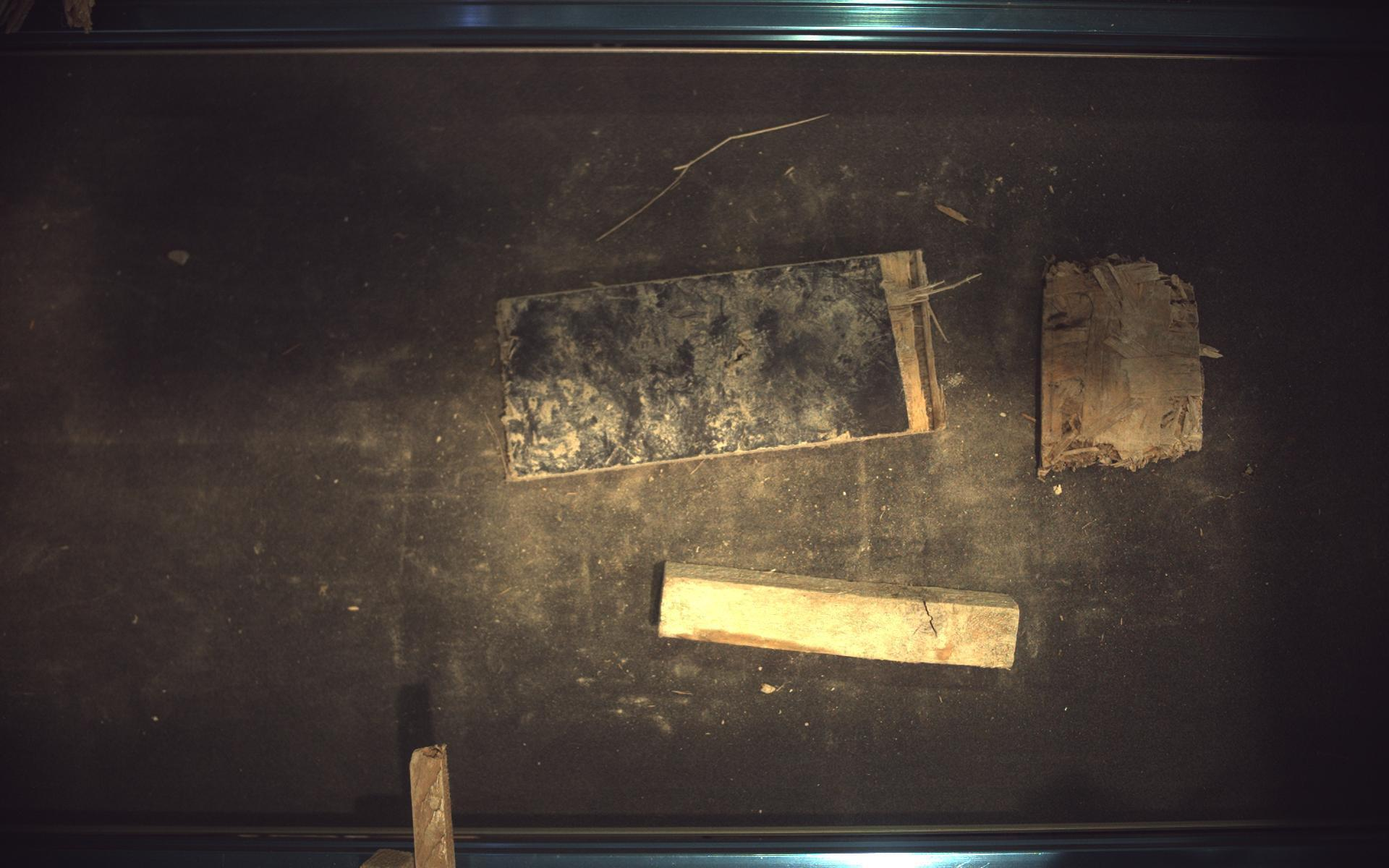wood: (498, 249, 957, 480), (1041, 255, 1223, 477), (660, 563, 1021, 669), (360, 850, 415, 868)
